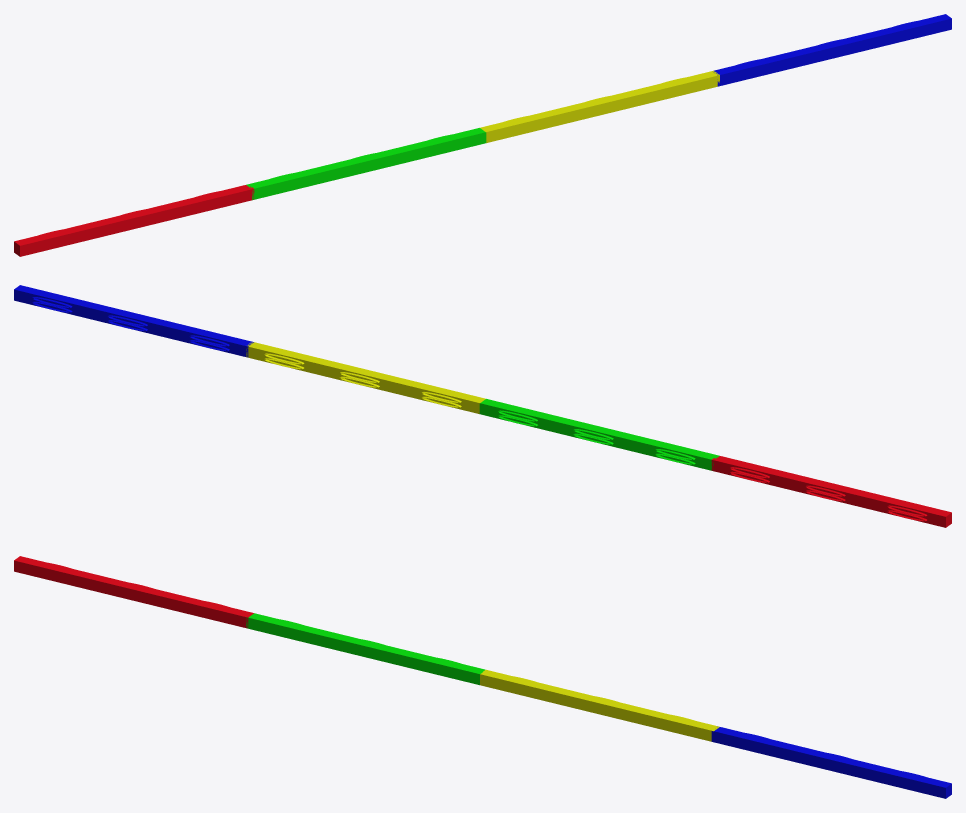
The model's file is WallIndividual .fbx.
The picture shows the model from 3 angles, top to bottom: view 1: azimuth 30°, elevation 25°; view 2: azimuth 150°, elevation 25°; view 3: azimuth 330°, elevation 25°; orthographic projection.
Parts seen in each view (by area): view 1: Cube.014; view 2: Cube.014; view 3: Cube.014.
Boxes of the visible parts, x1,y1,x2,y2 form: Cube.014: [14, 14, 951, 256]; Cube.014: [14, 285, 951, 527]; Cube.014: [14, 556, 951, 798].
Bounding box in the file's own units: 884 × 10.05 × 12.79.
